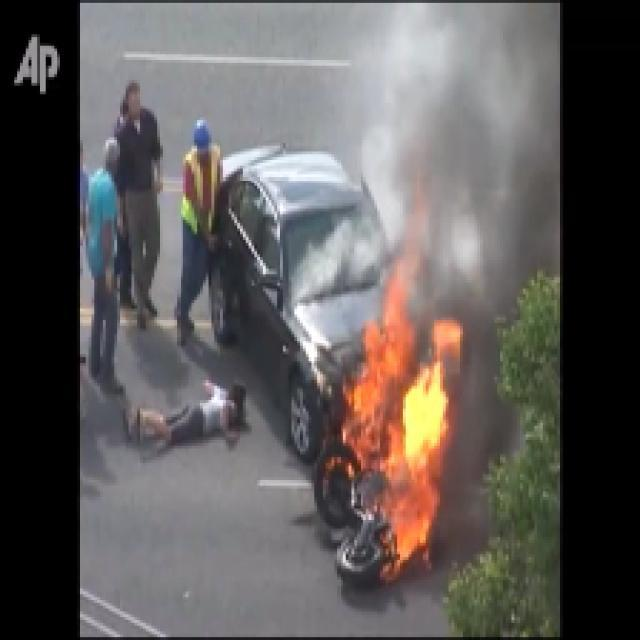Fire: (356, 305, 446, 558)
Smoke: (388, 8, 557, 302)
